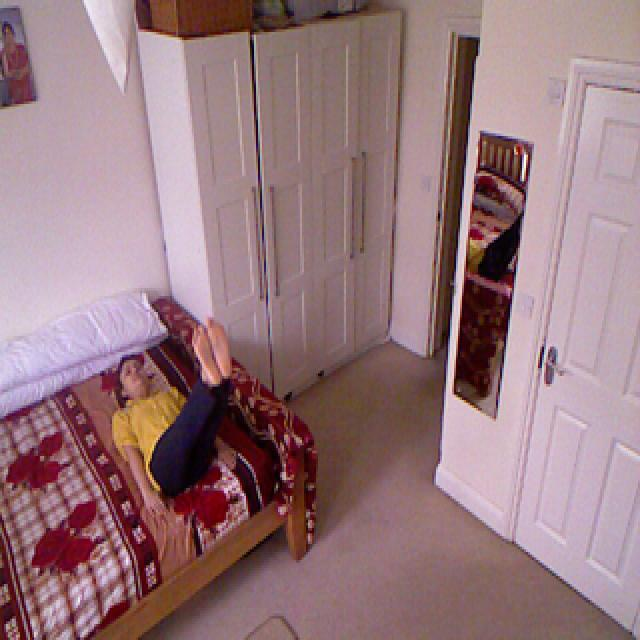lying: (91, 310, 255, 502)
